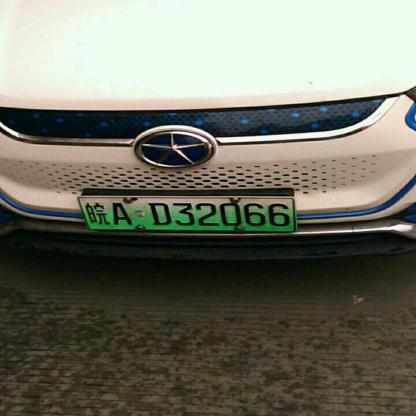lp: (78, 197, 294, 230)
